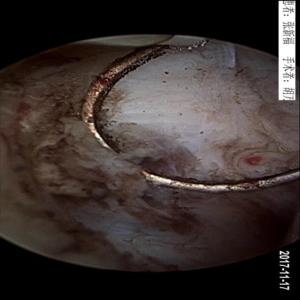film: (100, 123, 217, 269)
